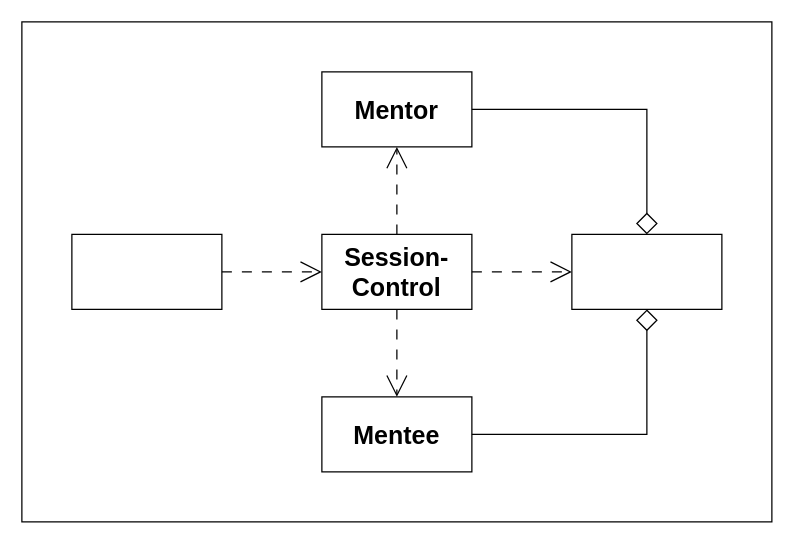
This 794x544 diagram has some shape labels left out. Each missing label, with the box of its shape:
Session: (571, 233, 722, 309)
Session-Page: (71, 233, 222, 309)
